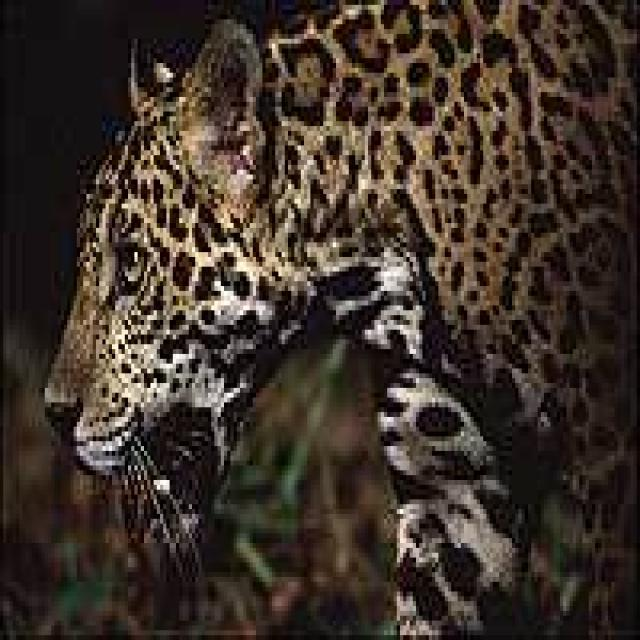Leopard: (38, 0, 633, 630)
